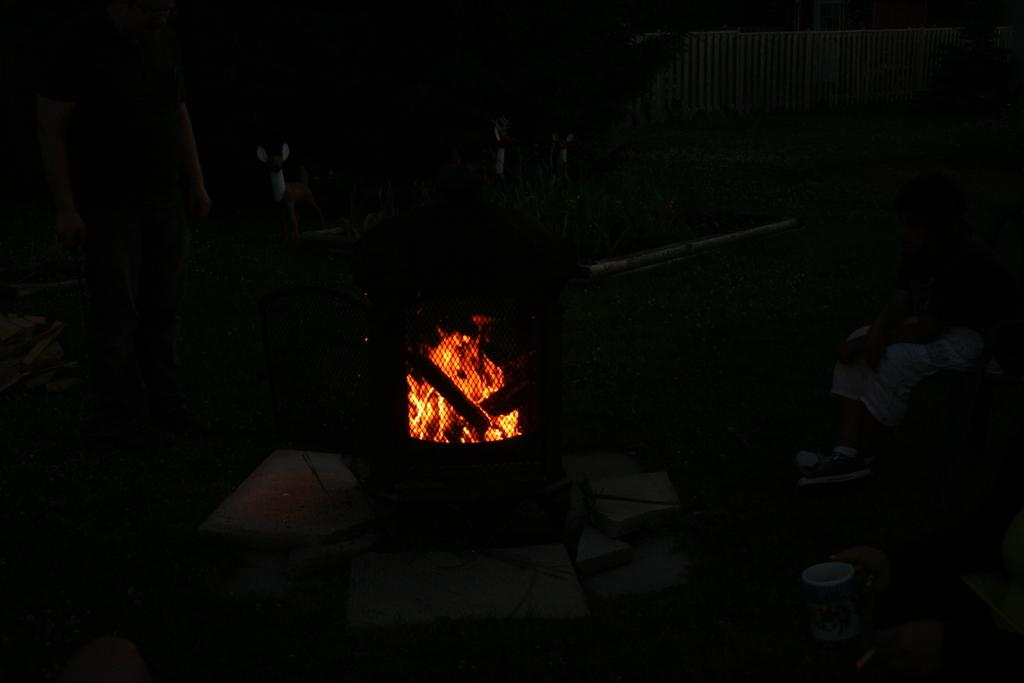Fire: (402, 317, 536, 452)
